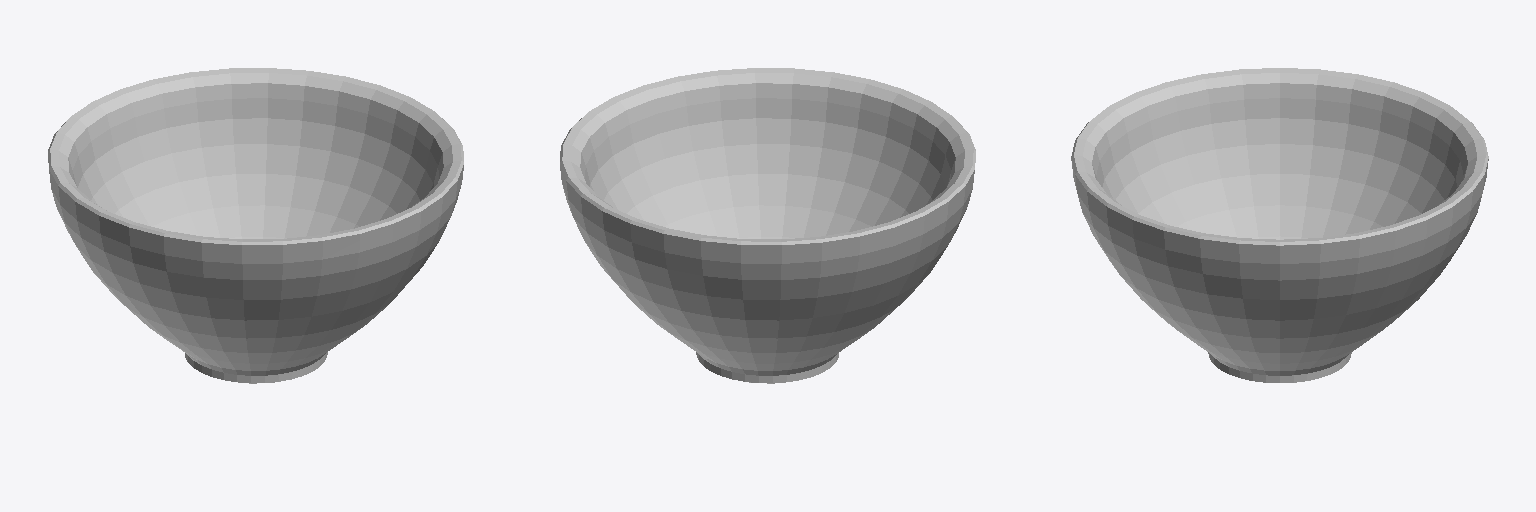
File: Cup1.obj
3 renders of one model, left to right at view 1: azimuth 30°, elevation 25°; view 2: azimuth 150°, elevation 25°; view 3: azimuth 270°, elevation 25°, orthographic.
Parts seen in each view (by area): view 1: Cup1_Cylinder; view 2: Cup1_Cylinder; view 3: Cup1_Cylinder.
Boxes of the visible parts, x1,y1,x2,y2 form: Cup1_Cylinder: [48, 68, 463, 383]; Cup1_Cylinder: [560, 68, 975, 383]; Cup1_Cylinder: [1071, 68, 1488, 382].
Bounding box in the file's own units: 0.4973 × 0.2655 × 0.4973.